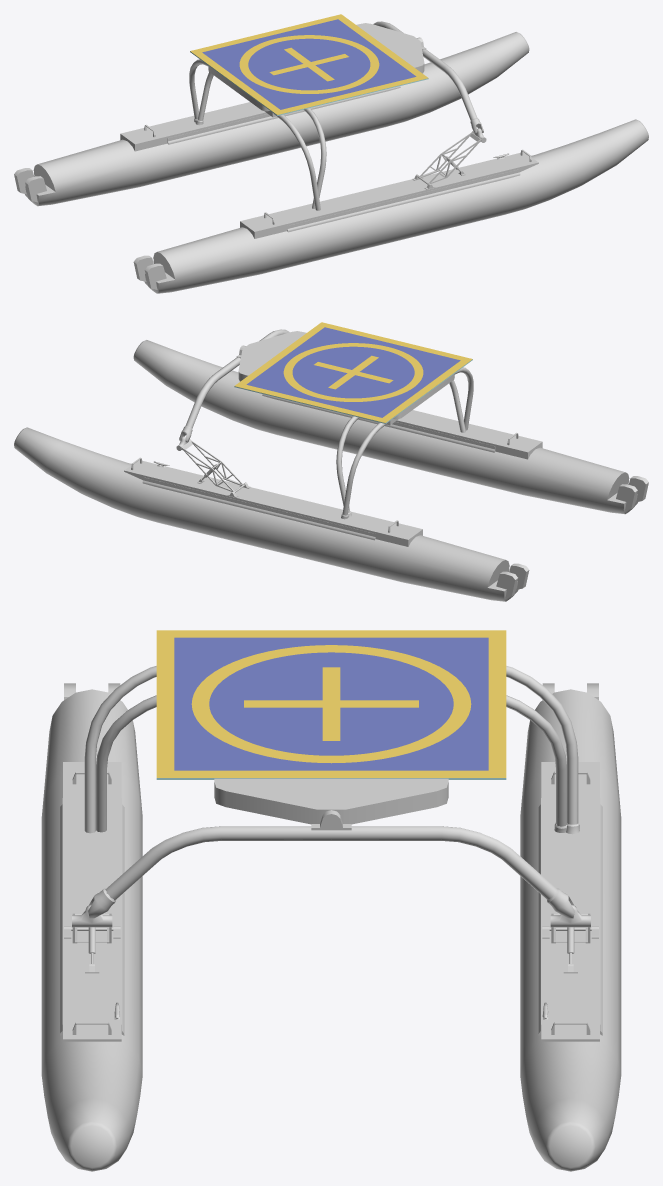
File: WAM-V-Base-2.dae
3 views of the same model, one above another, from view 1: azimuth 30°, elevation 25°; view 2: azimuth 150°, elevation 25°; view 3: azimuth 270°, elevation 25° (orthographic). The views are drawn at different scales.
Visible parts, largest first — view 1: WAM-V-Base, land_base_1_blue_circle_Body4.004, land_base_1_blue_frame_Body2.005, land_base_1_yellow_frame_Body1.022, land_base_1_yellow_circle_Body3.004, land_base_1_cross_Body5.003; view 2: WAM-V-Base, land_base_1_blue_circle_Body4.004, land_base_1_blue_frame_Body2.005, land_base_1_yellow_frame_Body1.022, land_base_1_yellow_circle_Body3.004, land_base_1_cross_Body5.003; view 3: WAM-V-Base, land_base_1_blue_circle_Body4.004, land_base_1_blue_frame_Body2.005, land_base_1_yellow_frame_Body1.022, land_base_1_yellow_circle_Body3.004, land_base_1_cross_Body5.003.
Part boxes in pixels (box(x1,y1,x2,y2)): WAM-V-Base: box(14, 21, 648, 293); land_base_1_blue_circle_Body4.004: box(248, 38, 370, 90); land_base_1_blue_frame_Body2.005: box(202, 19, 416, 109); land_base_1_yellow_frame_Body1.022: box(190, 14, 428, 114); land_base_1_yellow_circle_Body3.004: box(239, 35, 379, 93); land_base_1_cross_Body5.003: box(269, 47, 348, 81); WAM-V-Base: box(14, 329, 648, 601); land_base_1_blue_circle_Body4.004: box(292, 346, 414, 398); land_base_1_blue_frame_Body2.005: box(246, 327, 460, 417); land_base_1_yellow_frame_Body1.022: box(234, 322, 472, 422); land_base_1_yellow_circle_Body3.004: box(283, 343, 423, 401); land_base_1_cross_Body5.003: box(314, 355, 393, 389); WAM-V-Base: box(41, 666, 621, 1171); land_base_1_blue_circle_Body4.004: box(209, 652, 453, 755); land_base_1_blue_frame_Body2.005: box(174, 637, 488, 770); land_base_1_yellow_frame_Body1.022: box(156, 630, 506, 777); land_base_1_yellow_circle_Body3.004: box(191, 645, 471, 763); land_base_1_cross_Body5.003: box(244, 667, 418, 740).
Size of the model in its own units: 5.01 by 2.49 by 1.29.
